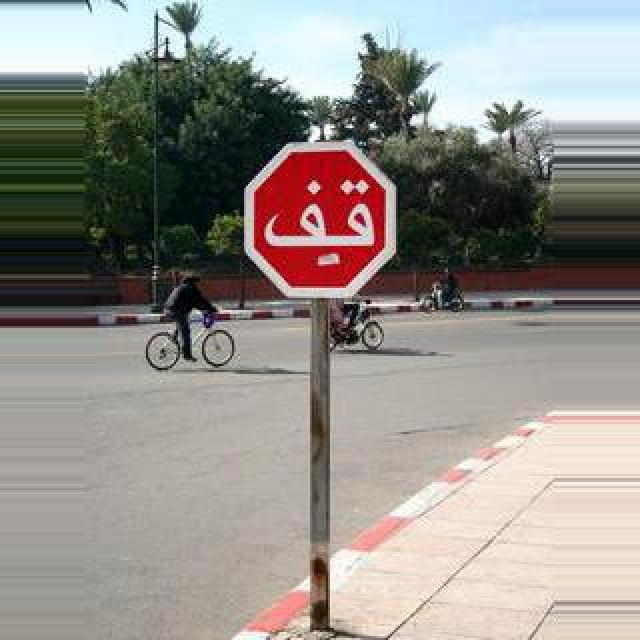Emergency Vehicles-Bike: (420, 278, 464, 314)
MC-Bike: (164, 272, 220, 362)
Person: (144, 310, 236, 372)
